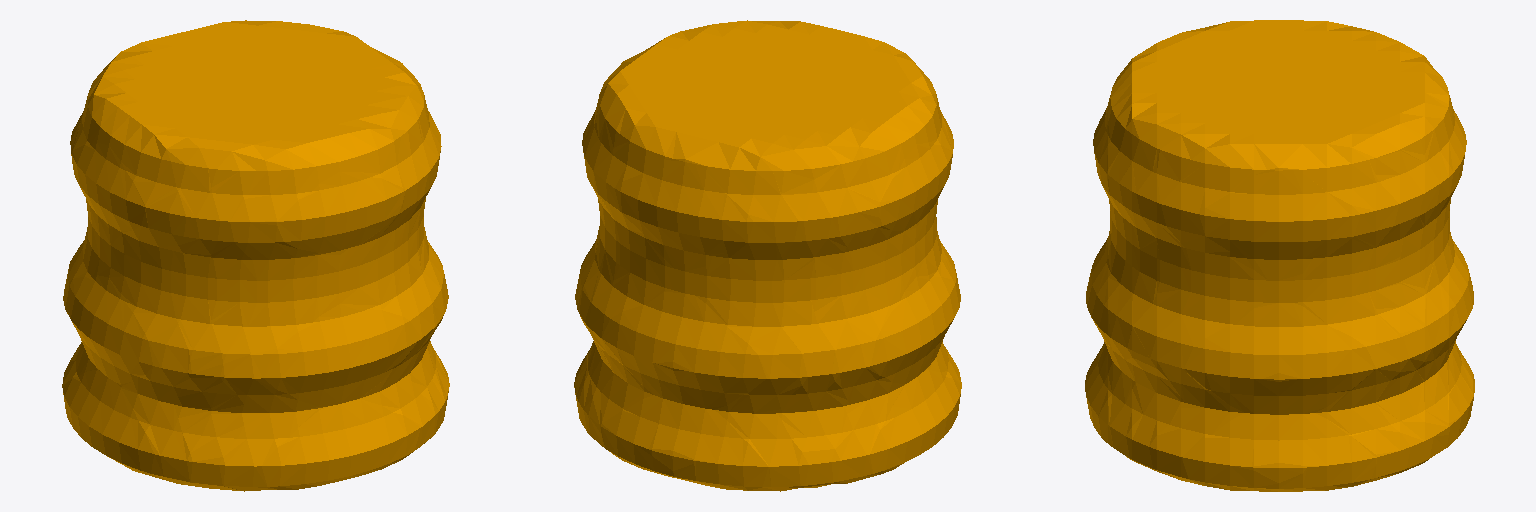
URDF robot description (cylinder_../../meshes/cylinders/cylinder_75.stl):
<?xml version="1.0" encoding="utf-8"?>  <robot name="cylinder_../../meshes/cylinders/cylinder_75.stl">   <link name="cylinder_../../meshes/cylinders/cylinder_75.stl">     <visual>       <geometry>         <mesh filename="../meshes/cylinders/cylinder_75.stl" scale="1 1 1"/>       </geometry>     </visual>     <collision>       <geometry>         <mesh filename="../meshes/cylinders/cylinder_75.stl" scale="1 1 1"/>       </geometry>     </collision>     <inertial>        <origin         xyz="0 0 0"         rpy="0 0 0" />       <mass value="0.31740320943617456"/>       <origin rpy="0 0 0" xyz="0 0 0"/>       <inertia ixx="0.0002562964991388251" ixy="-6.28325460002094e-08" ixz="3.206648037666851e-08" iyy="0.0002562978571651581" iyz="3.762574103630541e-08" izz="0.00022141224050452598"/>     </inertial>   </link>  </robot>

--- Facts derived from the render (not from the file) ---
3 views of the same robot in one strip: view 1: azimuth 30°, elevation 25°; view 2: azimuth 150°, elevation 25°; view 3: azimuth 270°, elevation 25° (orthographic).
Model cylinder_../../meshes/cylinders/cylinder_75.stl with 1 links and 0 joints (none), rooted at cylinder_../../meshes/cylinders/cylinder_75.stl, posed every joint at zero.
Links seen in each view (by area): view 1: cylinder_../../meshes/cylinders/cylinder_75.stl; view 2: cylinder_../../meshes/cylinders/cylinder_75.stl; view 3: cylinder_../../meshes/cylinders/cylinder_75.stl.
Boxes of the visible links, x1,y1,x2,y2 form: cylinder_../../meshes/cylinders/cylinder_75.stl: (62,20,449,491); cylinder_../../meshes/cylinders/cylinder_75.stl: (574,20,961,491); cylinder_../../meshes/cylinders/cylinder_75.stl: (1085,20,1474,491).
Bounding box of the posed robot: 0.0803 × 0.0803 × 0.0764 m (x, y, z).
Meshes: 1 distinct files referenced, 1 mesh visuals loaded (1 binary STL).